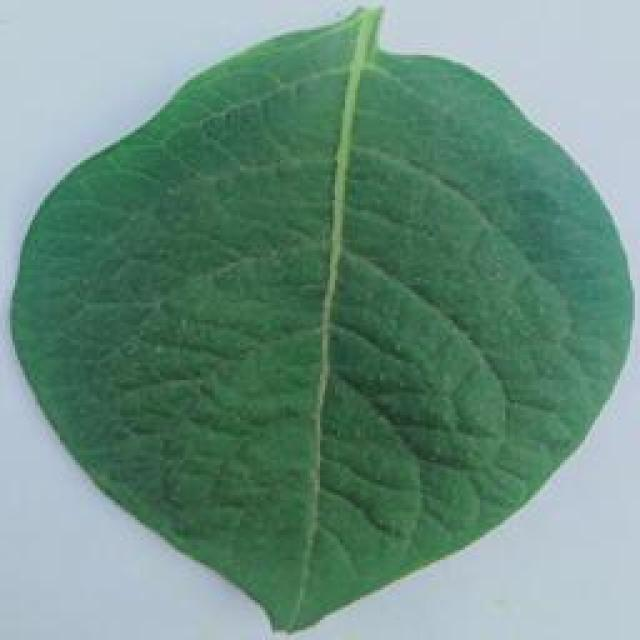Potato_Healthy: (4, 3, 628, 625)
